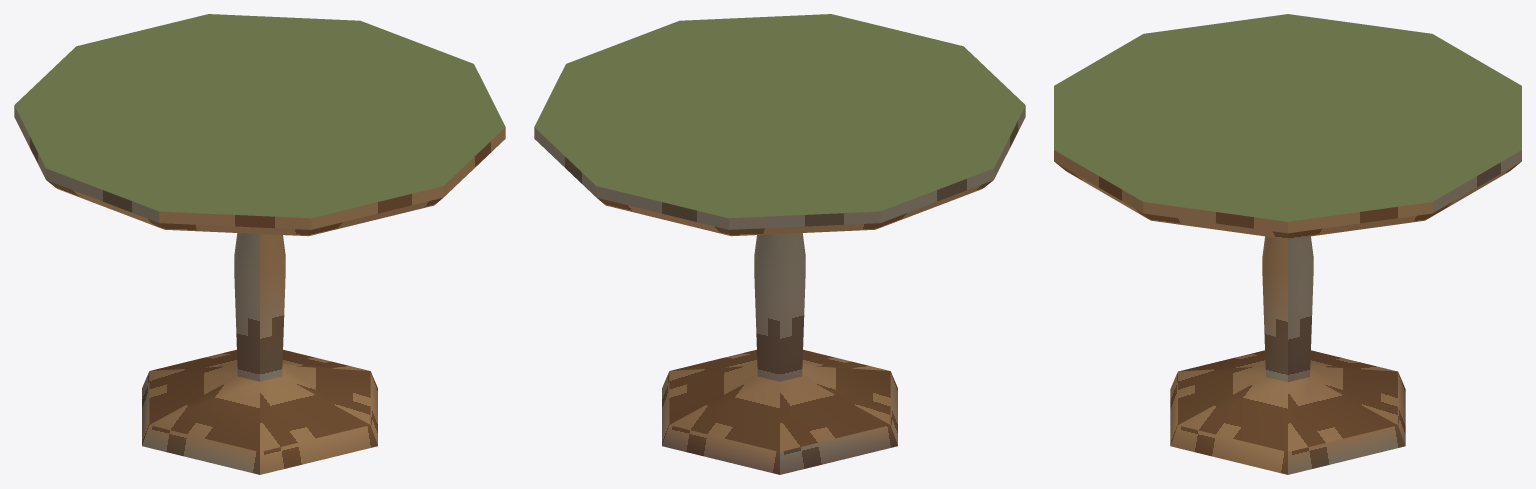
Rendered from wprop.table__card.glb.
3 views of the same model, side by side, from view 1: azimuth 30°, elevation 25°; view 2: azimuth 150°, elevation 25°; view 3: azimuth 270°, elevation 25° (orthographic).
Parts seen in each view (by area): view 1: kit_top, kit_pedestal; view 2: kit_top, kit_pedestal; view 3: kit_top, kit_pedestal.
Part boxes in pixels (x1,y1,x2,y2): kit_top: [14, 14, 505, 236]; kit_pedestal: [142, 233, 377, 474]; kit_top: [534, 14, 1025, 236]; kit_pedestal: [662, 233, 897, 474]; kit_top: [1054, 14, 1521, 239]; kit_pedestal: [1170, 236, 1405, 474].
Bounding box in the file's own units: 1.16 × 0.78 × 1.1.
2 materials, 2 textured.
